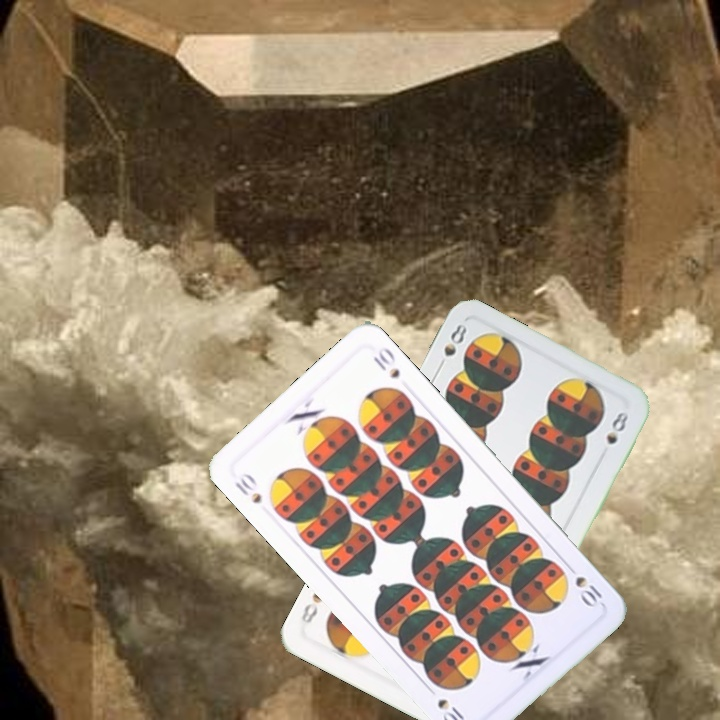S10: (562, 560, 606, 611), (230, 469, 264, 507)
S8: (433, 320, 470, 374)
